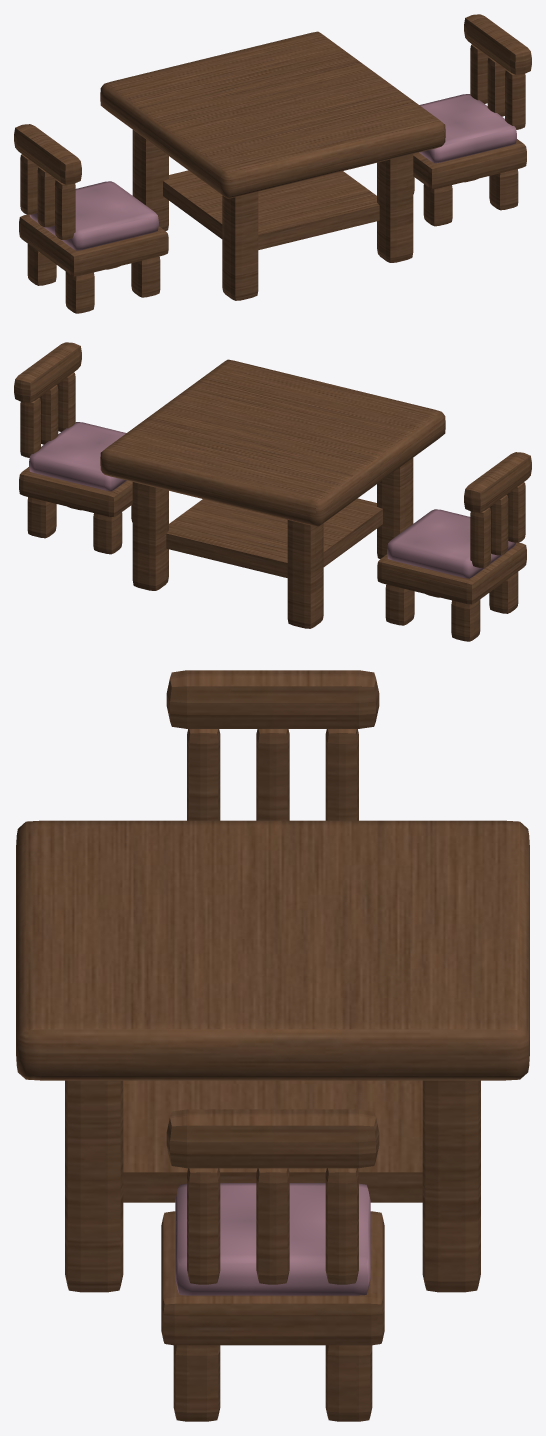
Rendered from table-2.glb.
The picture shows the model from 3 angles, top to bottom: view 1: azimuth 30°, elevation 25°; view 2: azimuth 150°, elevation 25°; view 3: azimuth 270°, elevation 25°; orthographic projection. The views are drawn at different scales.
Visible parts, largest first — view 1: T2-Wood, T2-Top, T2-Cushions; view 2: T2-Wood, T2-Top, T2-Cushions; view 3: T2-Top, T2-Wood, T2-Cushions.
Part boxes in pixels (<box>): T2-Wood: <box>14,14,531,313</box>; T2-Top: <box>100,31,445,198</box>; T2-Cushions: <box>29,94,516,250</box>; T2-Wood: <box>14,342,531,641</box>; T2-Top: <box>100,359,445,526</box>; T2-Cushions: <box>29,422,516,578</box>; T2-Top: <box>16,820,529,1080</box>; T2-Wood: <box>65,670,480,1421</box>; T2-Cushions: <box>175,1183,370,1295</box>.
Bounding box in the file's own units: 0.097 × 0.0309 × 0.046.
Materials: 3 (3 with a texture image).
